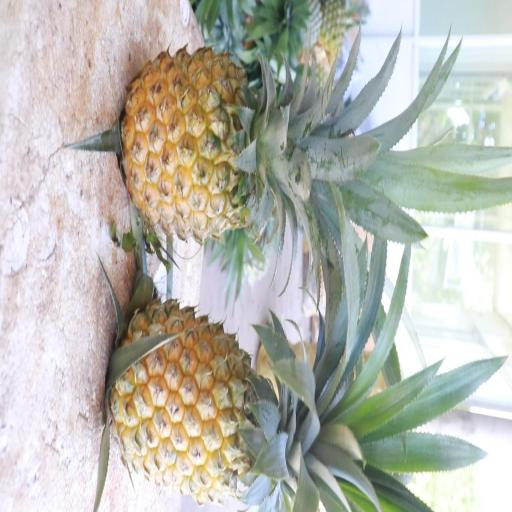Pineapple - v8 v1: (106, 294, 376, 504), (118, 44, 340, 252)
